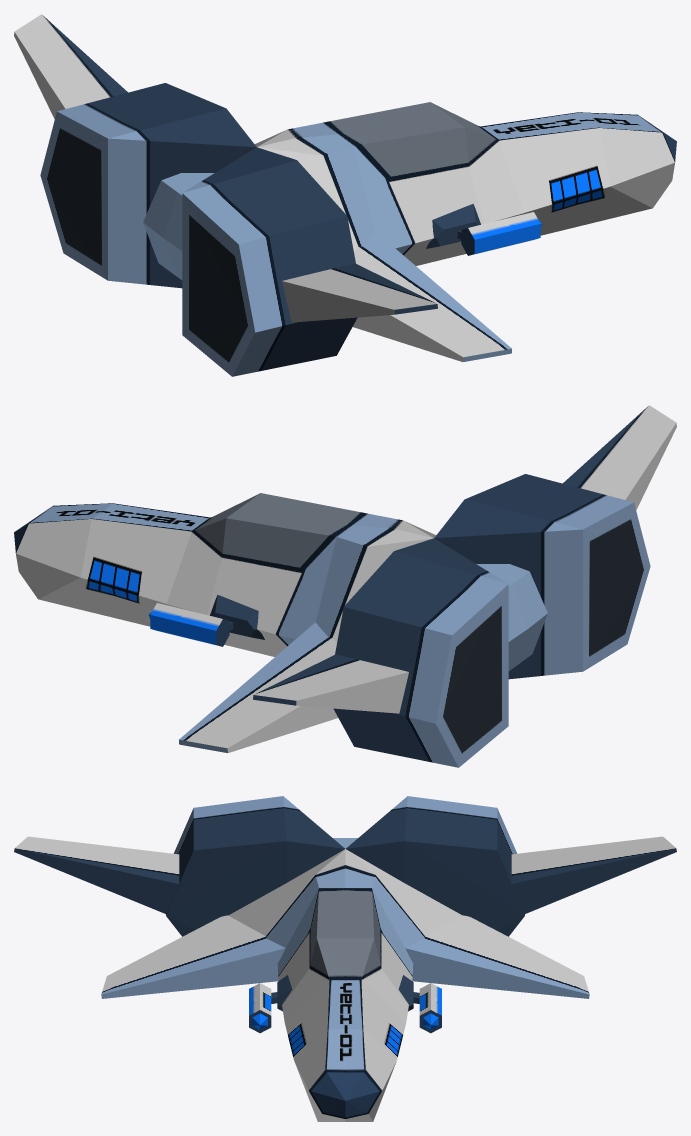
The model's file is Ship.fbx.
3 renders of one model, top to bottom at view 1: azimuth 30°, elevation 25°; view 2: azimuth 150°, elevation 25°; view 3: azimuth 270°, elevation 25°, orthographic. The views are drawn at different scales.
Visible parts, largest first — view 1: polySurface26; view 2: polySurface26; view 3: polySurface26.
Boxes of the visible parts, <box> form: polySurface26: <box>14,14,676,376</box>; polySurface26: <box>14,405,676,767</box>; polySurface26: <box>14,796,676,1121</box>.
Size of the model in its own units: 8.07 by 2.34 by 10.42.
Materials: 1 (1 with a texture image).
